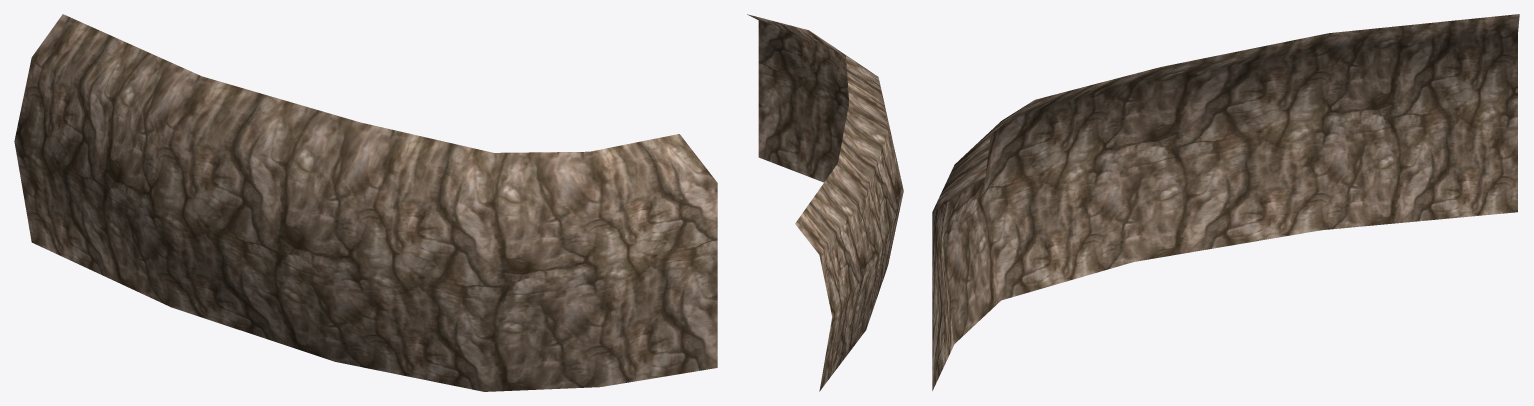
File: OVERHILL_A_01_OBJECT153.fbx
The picture shows the model from 3 angles, left to right: view 1: azimuth 30°, elevation 25°; view 2: azimuth 150°, elevation 25°; view 3: azimuth 270°, elevation 25°; orthographic projection. The views are drawn at different scales.
Visible parts, largest first — view 1: OVERHILL_A_01_OBJECT153; view 2: OVERHILL_A_01_OBJECT153; view 3: OVERHILL_A_01_OBJECT153.
Boxes of the visible parts, left/top/right/bottom form: OVERHILL_A_01_OBJECT153: left=14, top=14, right=717, bottom=391; OVERHILL_A_01_OBJECT153: left=747, top=14, right=903, bottom=391; OVERHILL_A_01_OBJECT153: left=932, top=14, right=1519, bottom=390.
Bounding box in the file's own units: 180861 × 94776 × 236519.
Materials: 1 (1 with a texture image).
